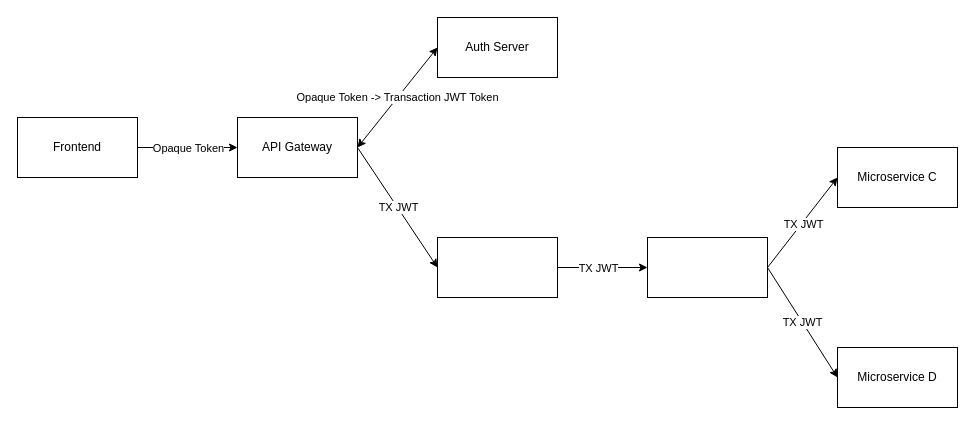
Some shapes in this 975 by 425 pixel diagram are drawn without their labels. Each missing label, with the centre of its shape:
Microservice A: point 497,267
Microservice B: point 707,267
